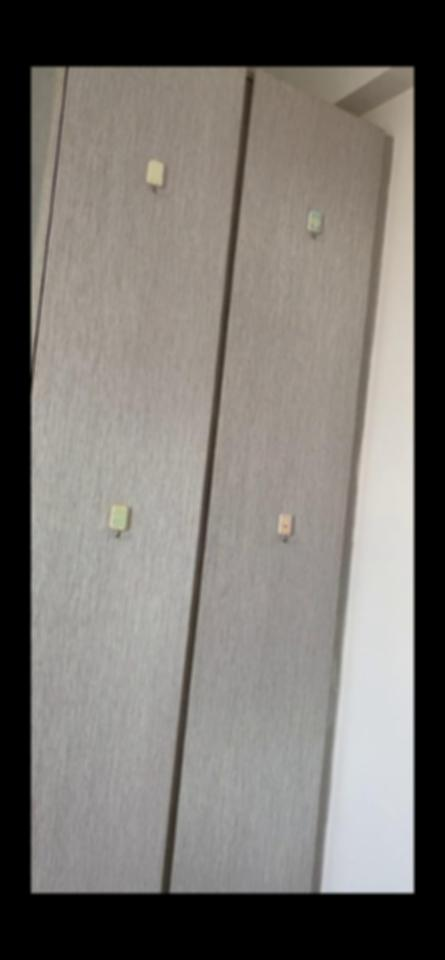Armario: (40, 74, 366, 889)
